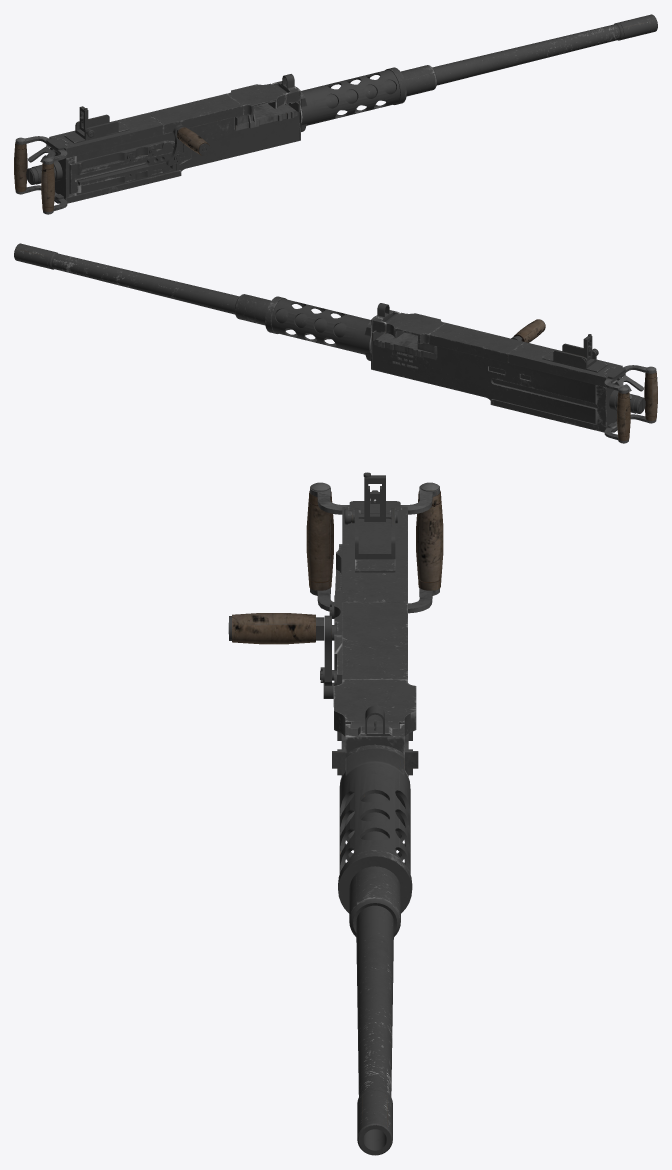
The model's file is Free M2 Browning.glb.
The picture shows the model from 3 angles, top to bottom: view 1: azimuth 30°, elevation 25°; view 2: azimuth 150°, elevation 25°; view 3: azimuth 270°, elevation 25°; orthographic projection. The views are drawn at different scales.
Parts seen in each view (by area): view 1: M2; view 2: M2; view 3: M2.
Part boxes in pixels (<box>): M2: <box>14,14,657,214</box>; M2: <box>14,243,657,443</box>; M2: <box>228,472,443,1155</box>.
Bounding box in the file's own units: 1.93 × 0.2497 × 0.2875.
1 material, 1 textured.
